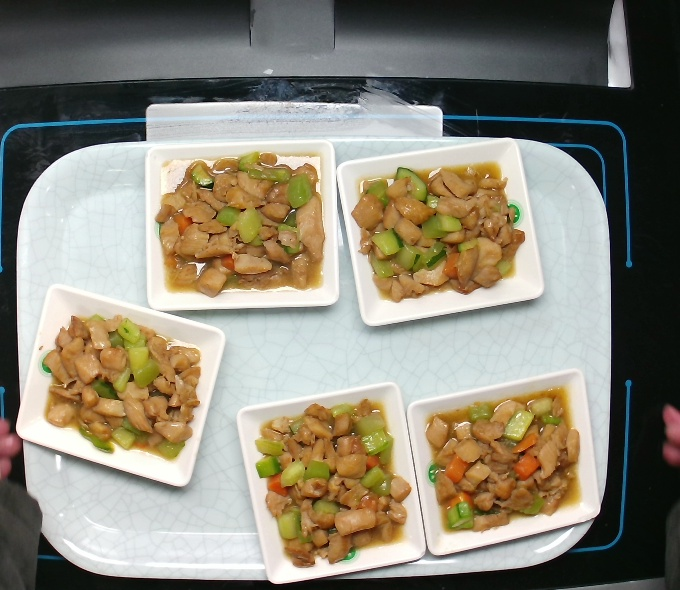wcq-GongBaoJiDing: (154, 153, 334, 304), (347, 155, 527, 306), (411, 386, 591, 537), (253, 403, 412, 571), (39, 311, 212, 459)
